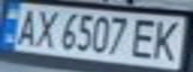0: (90, 12, 112, 55)
5: (75, 11, 96, 53)
6: (54, 10, 78, 52)
7: (106, 14, 133, 56)
A: (9, 6, 42, 47)
E: (127, 16, 163, 61)
K: (148, 18, 187, 62)
X: (30, 7, 60, 50)
